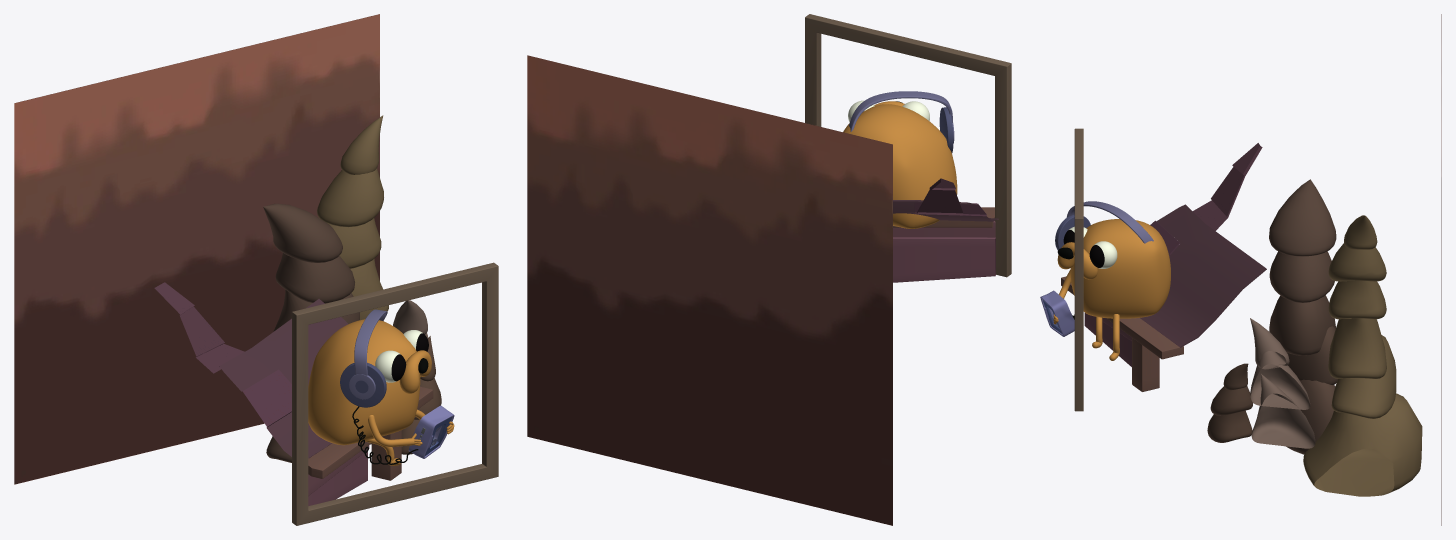
File: jtd.glb
3 renders of one model, left to right at view 1: azimuth 30°, elevation 25°; view 2: azimuth 150°, elevation 25°; view 3: azimuth 270°, elevation 25°, orthographic. The views are drawn at different scales.
Visible parts, largest first — view 1: Box016_Material #40_0, Box004_Material #41_0, Box015_Material #31_0, Cone014_Material #58_0, Plane003_Material #36_0, Plane004_Material #39_0; view 2: Box016_Material #40_0, Box004_Material #41_0, Box015_Material #31_0, Plane004_Material #39_0, Plane003_Material #36_0; view 3: Box004_Material #41_0, Cone014_Material #58_0, Plane003_Material #36_0, Box015_Material #31_0, Plane004_Material #39_0, Box016_Material #40_0.
Part boxes in pixels (<box>): Box016_Material #40_0: <box>14,14,379,484</box>; Box004_Material #41_0: <box>242,115,454,505</box>; Box015_Material #31_0: <box>292,262,498,525</box>; Cone014_Material #58_0: <box>263,203,359,462</box>; Plane003_Material #36_0: <box>219,299,347,458</box>; Plane004_Material #39_0: <box>154,282,244,373</box>; Box016_Material #40_0: <box>527,55,892,525</box>; Box004_Material #41_0: <box>843,91,995,282</box>; Box015_Material #31_0: <box>805,14,1011,277</box>; Plane004_Material #39_0: <box>908,178,965,215</box>; Plane003_Material #36_0: <box>893,200,998,221</box>; Box004_Material #41_0: <box>1040,201,1422,496</box>; Cone014_Material #58_0: <box>1269,179,1337,454</box>; Plane003_Material #36_0: <box>1140,204,1266,347</box>; Box015_Material #31_0: <box>1074,128,1083,411</box>; Plane004_Material #39_0: <box>1192,143,1262,230</box>; Box016_Material #40_0: <box>1441,14,1441,525</box>.
Bounding box in the file's own units: 4.36 × 4.35 × 4.53.
9 materials, 9 textured.
